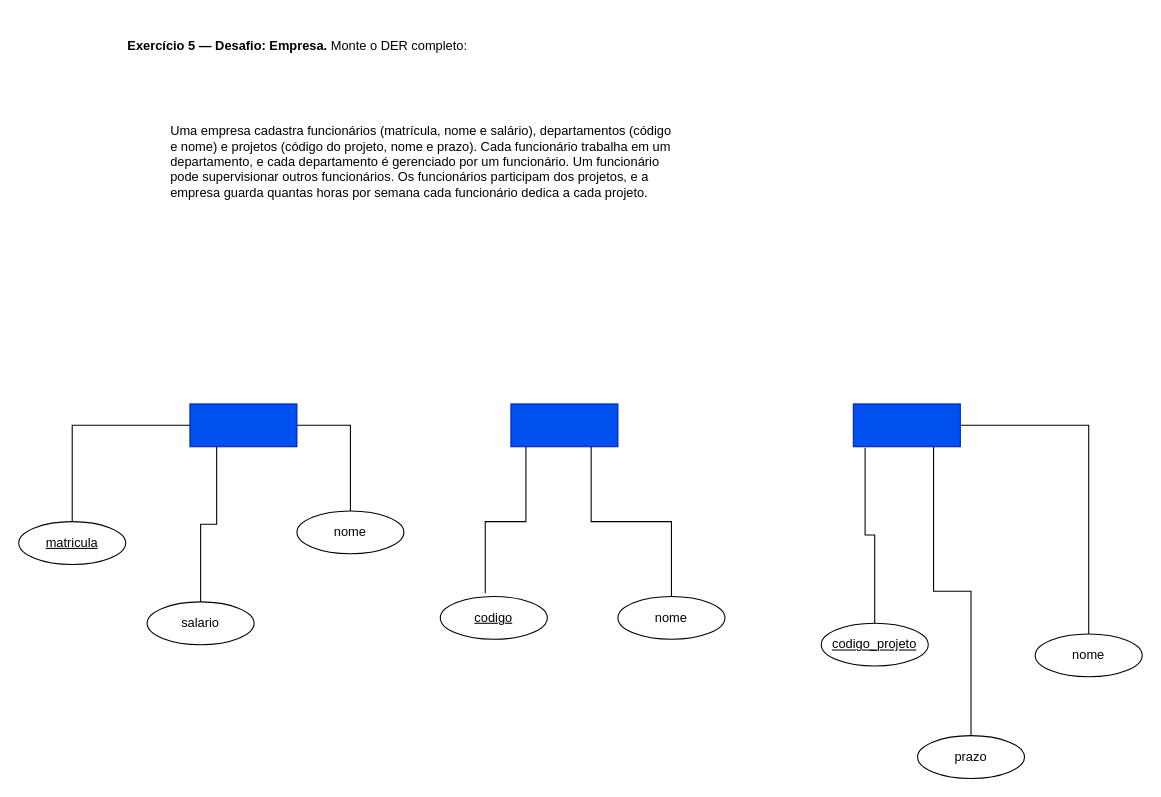
The diagram is 1161 pixels wide and 797 high, and some of its shapes have lost their labels. Here are the shapes that lost their labels. From the top down, the centre of each, then its label:
[243,425]: FUNCIONÁRIOS
[564,425]: DEPARTAMENTOS
[906,425]: PROJETOS
